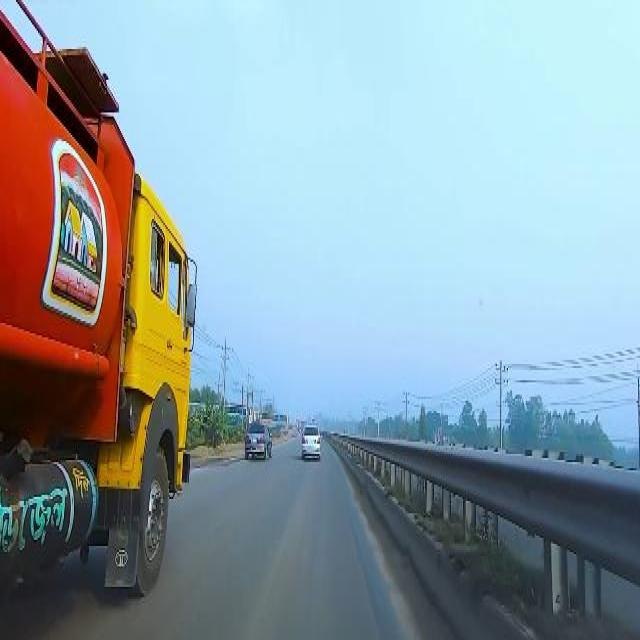18: (4, 10, 196, 593)
5: (244, 420, 272, 457), (302, 422, 321, 459)
Truck: (260, 409, 288, 431)
